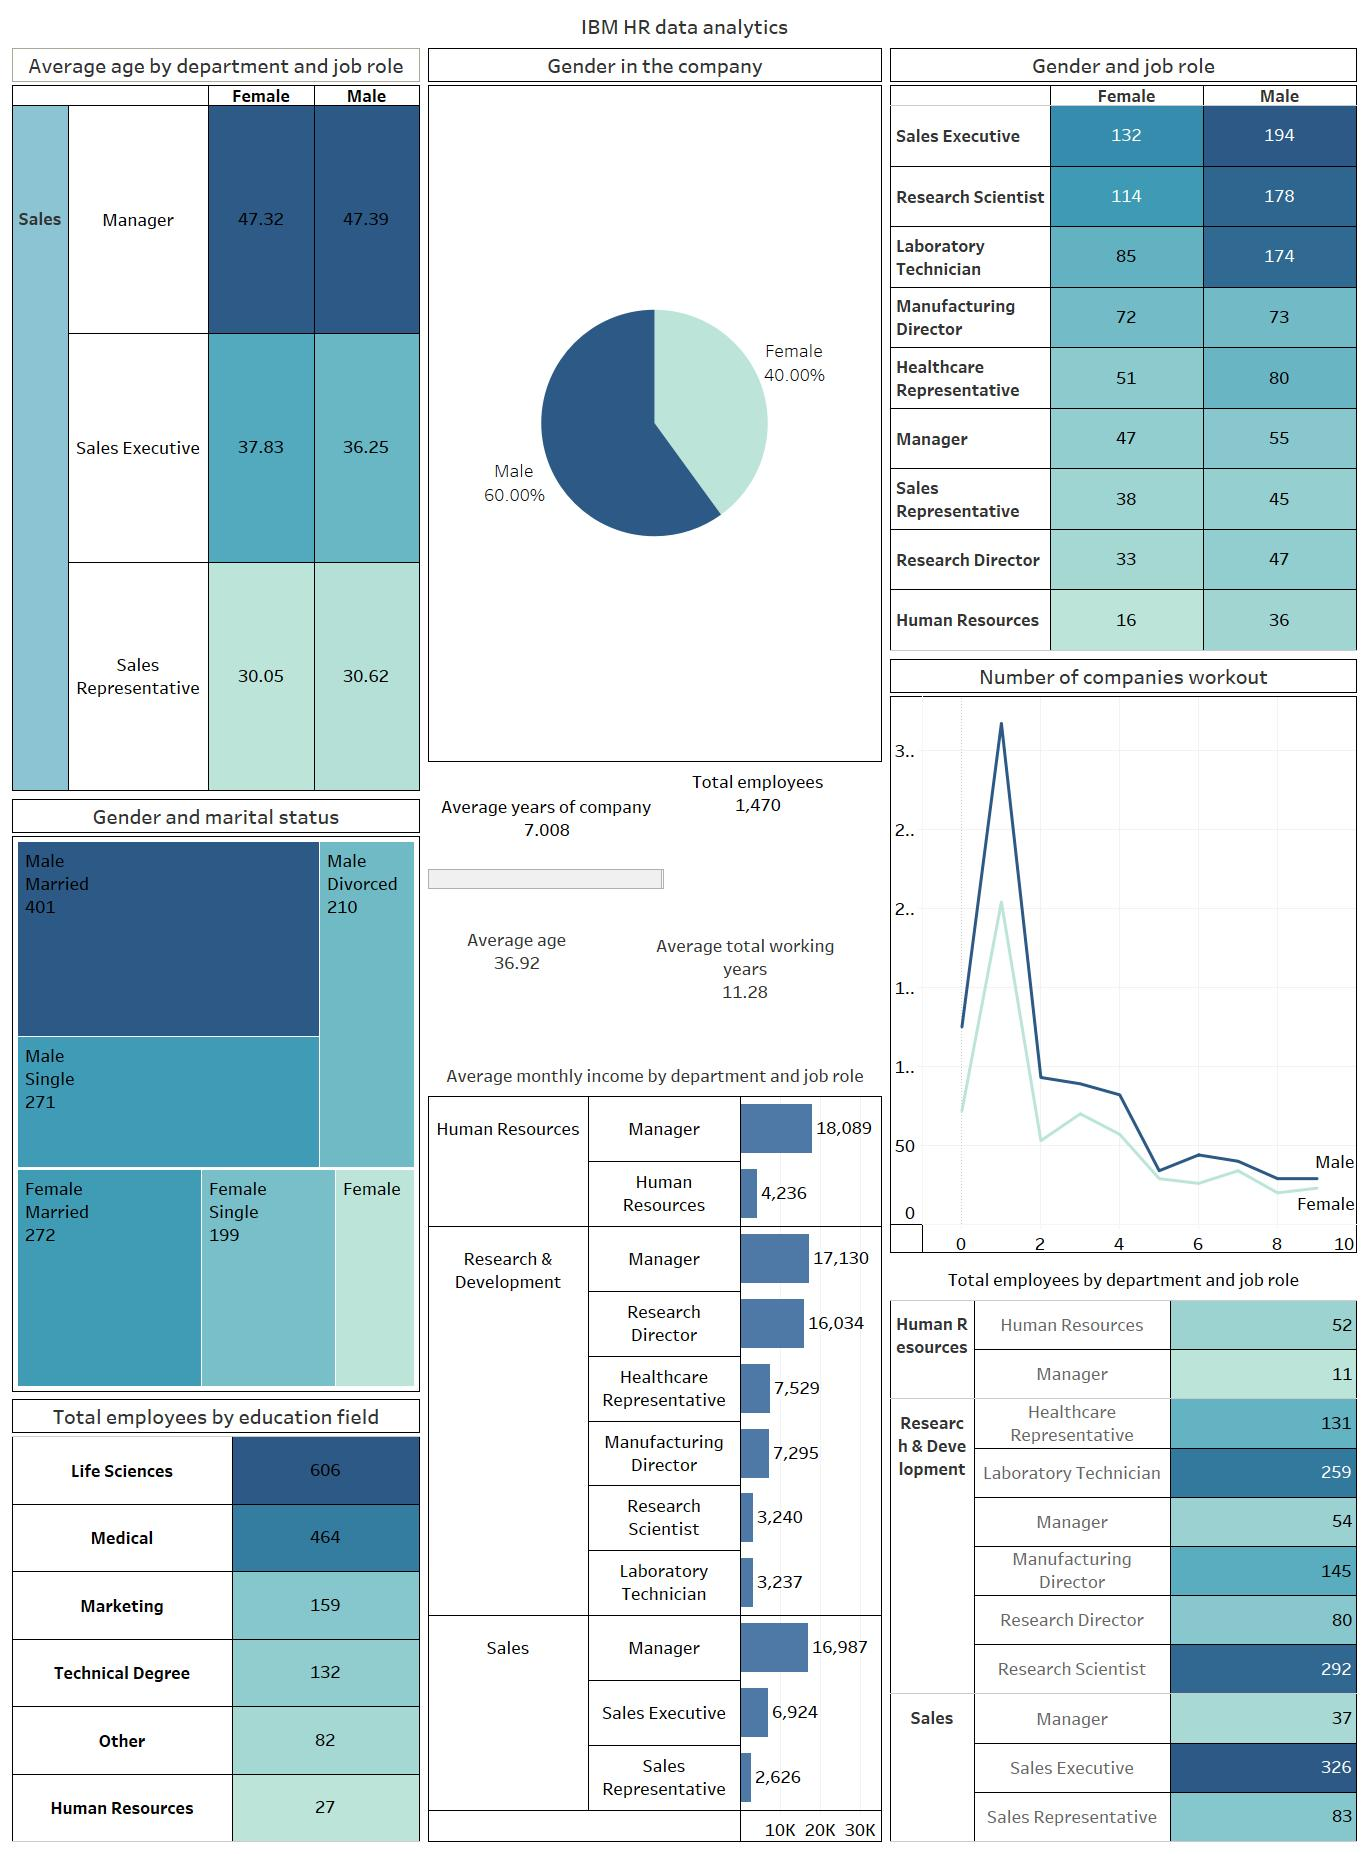

Layout of this report page (visuals, bound fields, positions):
{"tool":"tableau","page":{"name":"IBM HR data analytics","canvas":[1369,1854],"ordinal":0},"visuals":[{"type":"title","box":[8,8,1353,41]},{"type":"worksheet","title":"Average age by department and job role","mark":"Square","rows":["Department","JobRole"],"cols":["Gender"],"box":[8,49,415.9,748.5]},{"type":"worksheet","title":"Gender in the company","mark":"Pie","box":[423.9,49,461.7,720]},{"type":"worksheet","title":"Gender and job role","mark":"Square","rows":["JobRole"],"cols":["Gender"],"box":[885.6,49,475.4,609.2]},{"type":"worksheet","title":"Number of companies workout","mark":"Automatic","rows":["Gender"],"cols":["NumCompaniesWorked"],"box":[885.6,658.2,475.4,600.4]},{"type":"worksheet","title":"Average years of company ","mark":"Automatic","box":[423.9,768.9,243.4,157.3]},{"type":"worksheet","title":"Total employees","mark":"Automatic","box":[667.3,768.9,218.3,157.3]},{"type":"worksheet","title":"Gender and marital status","mark":"Automatic","box":[8,797.5,415.9,598.9]},{"type":"worksheet","title":"Average age","mark":"Automatic","box":[423.9,926.2,210.5,128.6]},{"type":"worksheet","title":"Average total working years","mark":"Automatic","box":[634.4,926.2,251.2,128.6]},{"type":"worksheet","title":"Average monthly income by department and job role ","mark":"Automatic","rows":["Department","JobRole"],"cols":["MonthlyIncome"],"box":[423.9,1054.8,461.7,791.3]},{"type":"worksheet","title":"Total employees by department and job role","mark":"Square","rows":["Department","JobRole"],"box":[885.6,1258.6,475.4,587.4]},{"type":"worksheet","title":"Total employees by education field ","mark":"Square","rows":["EducationField"],"box":[8,1396.4,415.9,449.6]}]}

Visuals, with their boxes in screenshot pixels (x1, y1, x2, y2), scaled from the page's 1369x1854 canvas onto the 1369x1854 screenshot:
title: rect(8, 8, 1361, 49)
"Average age by department and job role" worksheet (Square marks): rect(8, 49, 424, 798)
"Gender in the company" worksheet (Pie marks): rect(424, 49, 886, 769)
"Gender and job role" worksheet (Square marks): rect(886, 49, 1361, 658)
"Number of companies workout" worksheet: rect(886, 658, 1361, 1259)
"Average years of company " worksheet: rect(424, 769, 667, 926)
"Total employees" worksheet: rect(667, 769, 886, 926)
"Gender and marital status" worksheet: rect(8, 798, 424, 1396)
"Average age" worksheet: rect(424, 926, 634, 1055)
"Average total working years" worksheet: rect(634, 926, 886, 1055)
"Average monthly income by department and job role " worksheet: rect(424, 1055, 886, 1846)
"Total employees by department and job role" worksheet (Square marks): rect(886, 1259, 1361, 1846)
"Total employees by education field " worksheet (Square marks): rect(8, 1396, 424, 1846)
